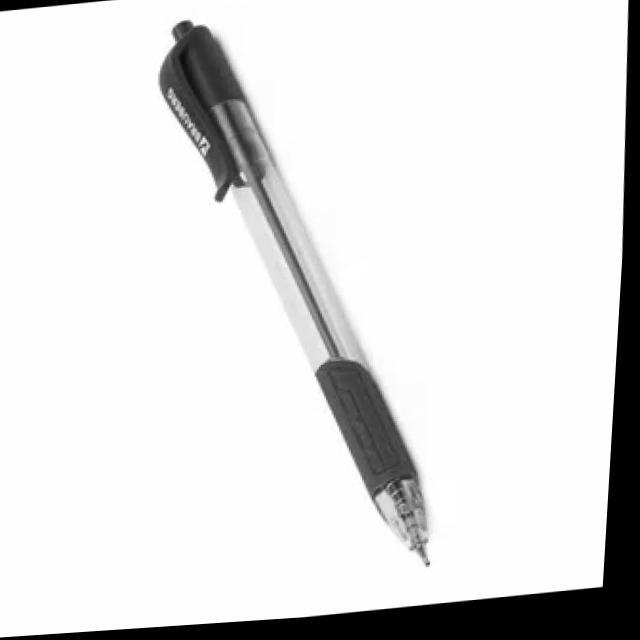pencil: (152, 10, 444, 568)
